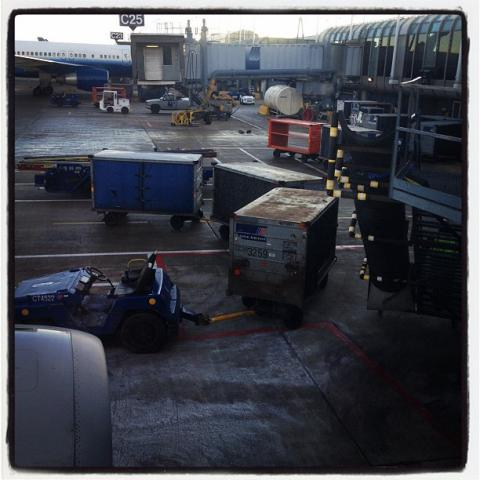truck: (13, 251, 210, 354), (223, 185, 340, 330), (98, 90, 135, 116), (146, 94, 192, 114), (50, 92, 81, 107), (240, 94, 256, 106)
